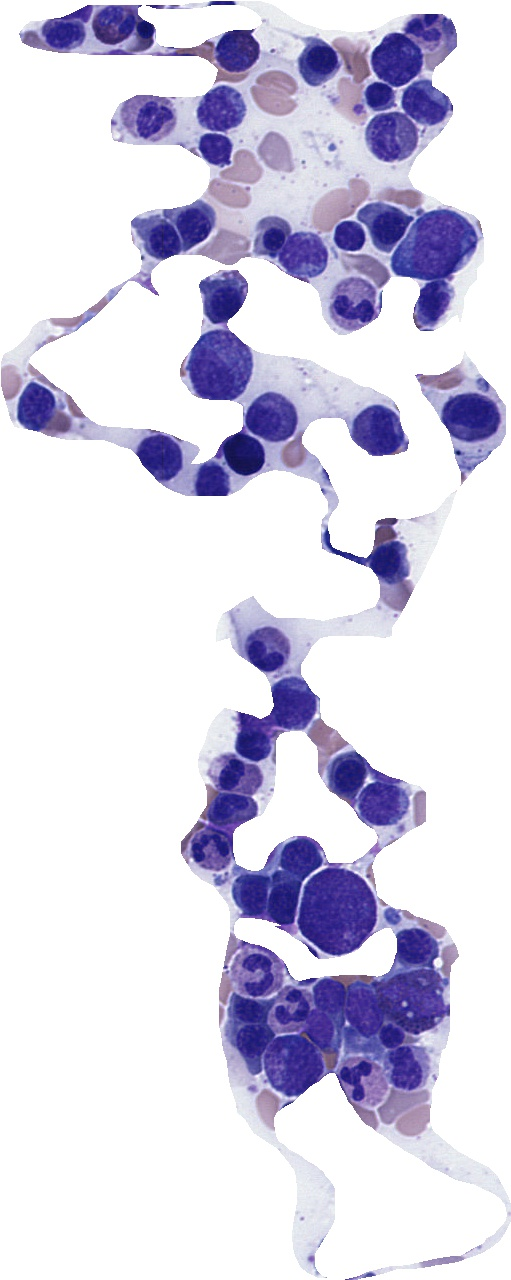objectness: (400, 76, 450, 126), (276, 228, 326, 278), (408, 275, 458, 325), (234, 948, 284, 998), (268, 985, 318, 1035), (329, 276, 379, 326), (338, 1053, 388, 1103), (125, 94, 175, 144), (186, 822, 236, 872), (400, 6, 450, 56), (367, 110, 417, 160), (247, 389, 297, 439), (445, 390, 495, 440), (351, 409, 401, 459), (390, 973, 440, 1023), (211, 27, 261, 77), (207, 750, 257, 800), (244, 623, 294, 673), (206, 782, 256, 832), (409, 218, 459, 268), (373, 33, 423, 83), (265, 1037, 315, 1087), (300, 1002, 350, 1052), (383, 1038, 433, 1088), (355, 71, 405, 121), (38, 9, 88, 59), (260, 873, 310, 923), (358, 778, 408, 828), (367, 1009, 417, 1059), (228, 719, 278, 769), (268, 674, 318, 724), (191, 123, 241, 173), (336, 980, 386, 1030), (324, 209, 374, 259), (185, 454, 235, 504), (304, 972, 354, 1022), (391, 922, 441, 972), (196, 275, 246, 325), (364, 203, 414, 253), (224, 869, 274, 919), (136, 216, 186, 266), (169, 200, 219, 250), (324, 747, 374, 797), (295, 35, 345, 85), (365, 537, 415, 587), (276, 830, 326, 880), (224, 1014, 274, 1064), (249, 213, 299, 263), (221, 984, 271, 1034), (194, 340, 244, 390), (311, 881, 361, 931), (87, 0, 137, 48)
